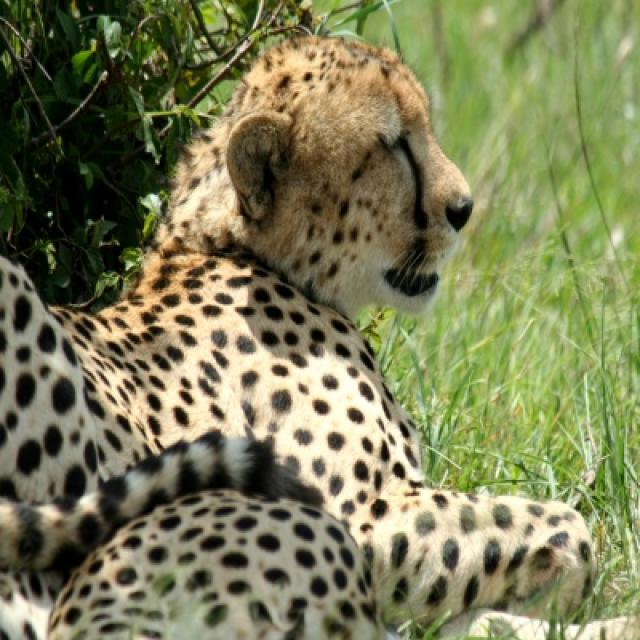Cheetah: (0, 21, 638, 638)
